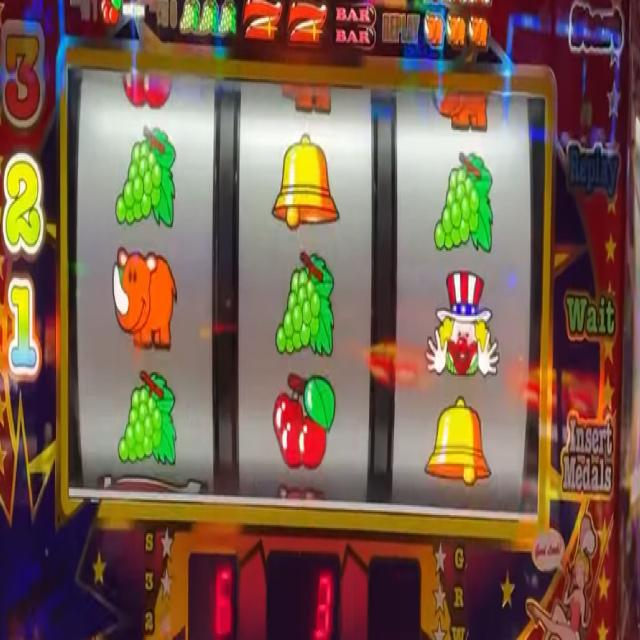bar: (330, 0, 377, 53)
bell: (270, 132, 341, 230), (423, 395, 492, 489)
cherry: (272, 369, 337, 471), (121, 69, 174, 111), (99, 0, 122, 29)
clown: (424, 269, 500, 384)
display: (66, 62, 538, 520)
elephant: (111, 246, 178, 354), (432, 84, 492, 135), (279, 85, 333, 118), (469, 12, 489, 48), (424, 14, 445, 47), (446, 14, 466, 47)
grape: (116, 362, 178, 474), (274, 247, 336, 359), (115, 122, 177, 233), (433, 148, 494, 259), (178, 0, 199, 35), (218, 0, 236, 39), (201, 0, 217, 38)
z: (286, 0, 327, 46), (242, 0, 282, 45)
